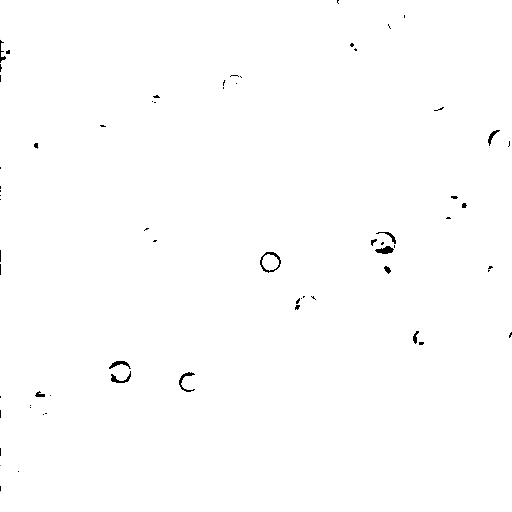micro-algae: (100, 0, 194, 62), (337, 248, 390, 302), (94, 369, 146, 417), (14, 124, 64, 168), (2, 380, 49, 426), (332, 22, 372, 66), (432, 183, 479, 220), (203, 233, 247, 271), (368, 249, 408, 286), (424, 215, 455, 252), (303, 210, 340, 240), (2, 456, 35, 489), (409, 385, 440, 417), (290, 289, 320, 321), (88, 123, 123, 148), (27, 389, 57, 418), (486, 124, 511, 157), (230, 0, 288, 14), (220, 72, 249, 100), (370, 229, 398, 256), (424, 86, 451, 113), (105, 359, 132, 386), (385, 6, 409, 35), (115, 44, 142, 68), (259, 249, 283, 276), (176, 369, 201, 392), (144, 0, 173, 19), (411, 324, 433, 348), (306, 250, 328, 273), (2, 248, 19, 276), (487, 256, 506, 281), (140, 226, 162, 245), (1, 52, 17, 77), (335, 0, 358, 14), (0, 40, 14, 60), (485, 68, 500, 83)
